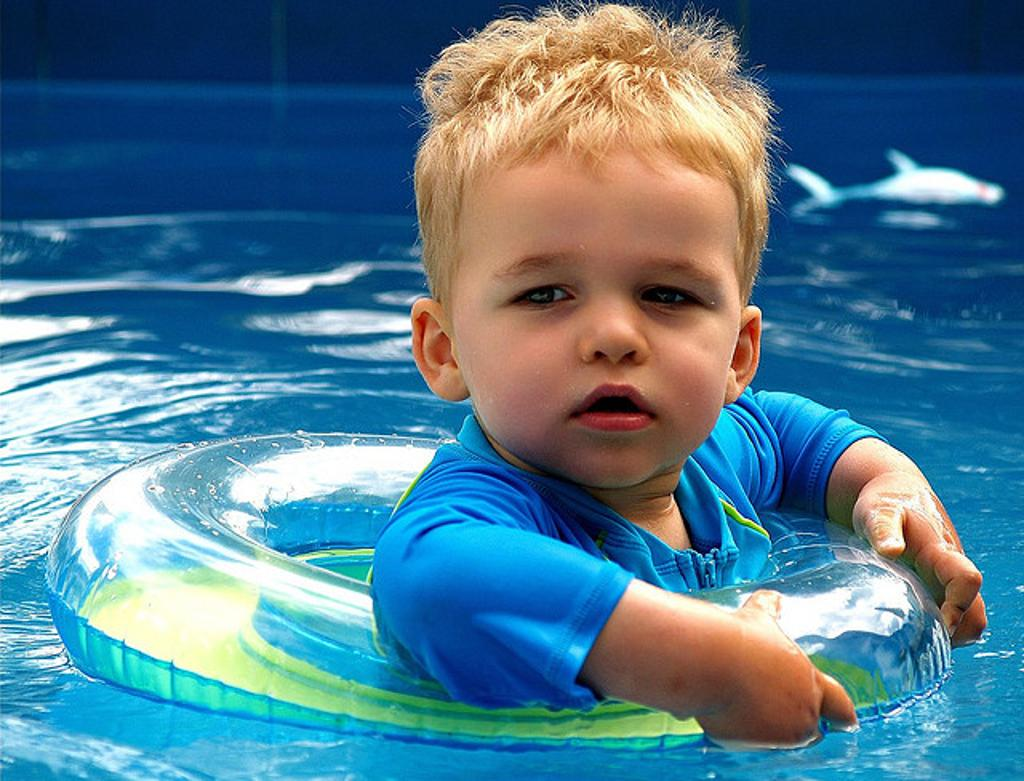face: (460, 168, 748, 488)
